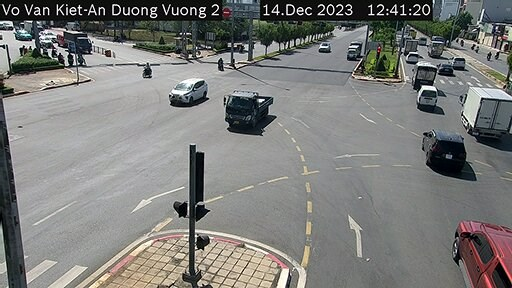car: (448, 215, 512, 285), (419, 125, 464, 163), (171, 67, 206, 107), (412, 82, 438, 108), (435, 60, 453, 79), (448, 55, 468, 67), (404, 50, 417, 63), (317, 38, 329, 52)
motorbike: (139, 59, 156, 78), (212, 58, 233, 72)
truck: (219, 83, 280, 136), (459, 84, 512, 140), (59, 29, 96, 56), (412, 59, 445, 81), (427, 32, 445, 56), (344, 36, 361, 61), (404, 36, 418, 56)
